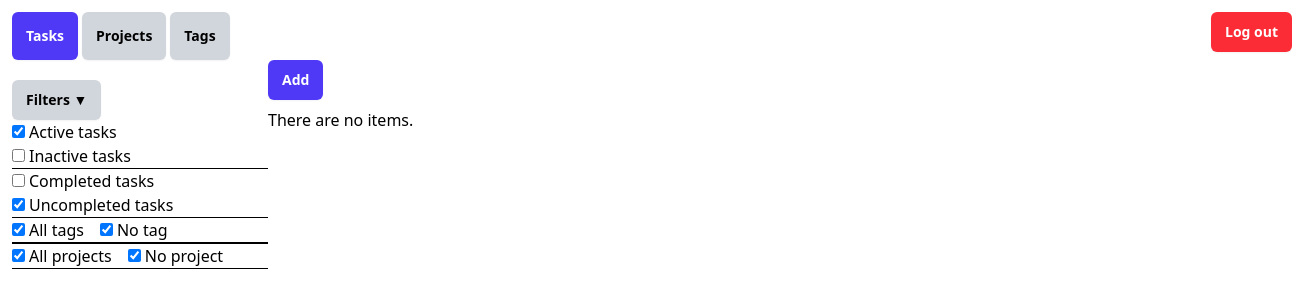
Test case: MainView › shows project view after switching to project view
Click the button "Projects".
click(124, 36)  # box [82,12,166,60]
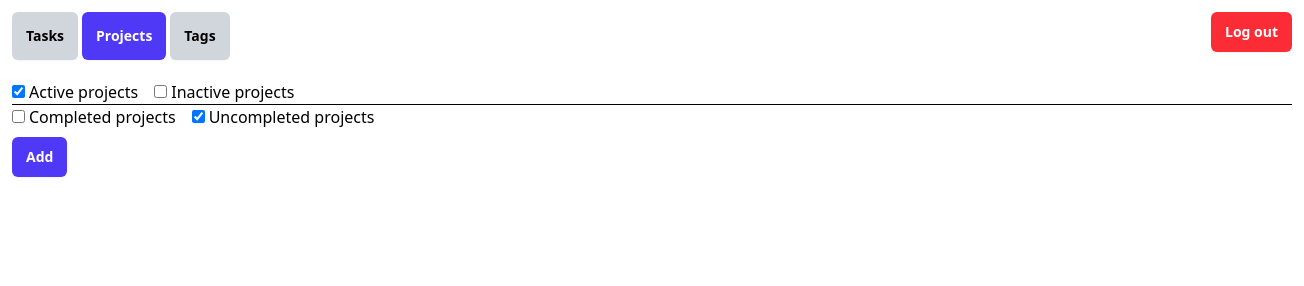
Check: the element with test id "project-view" is shown, box [12,81,374,177]
Check: the element with test id "task-view" is gone
